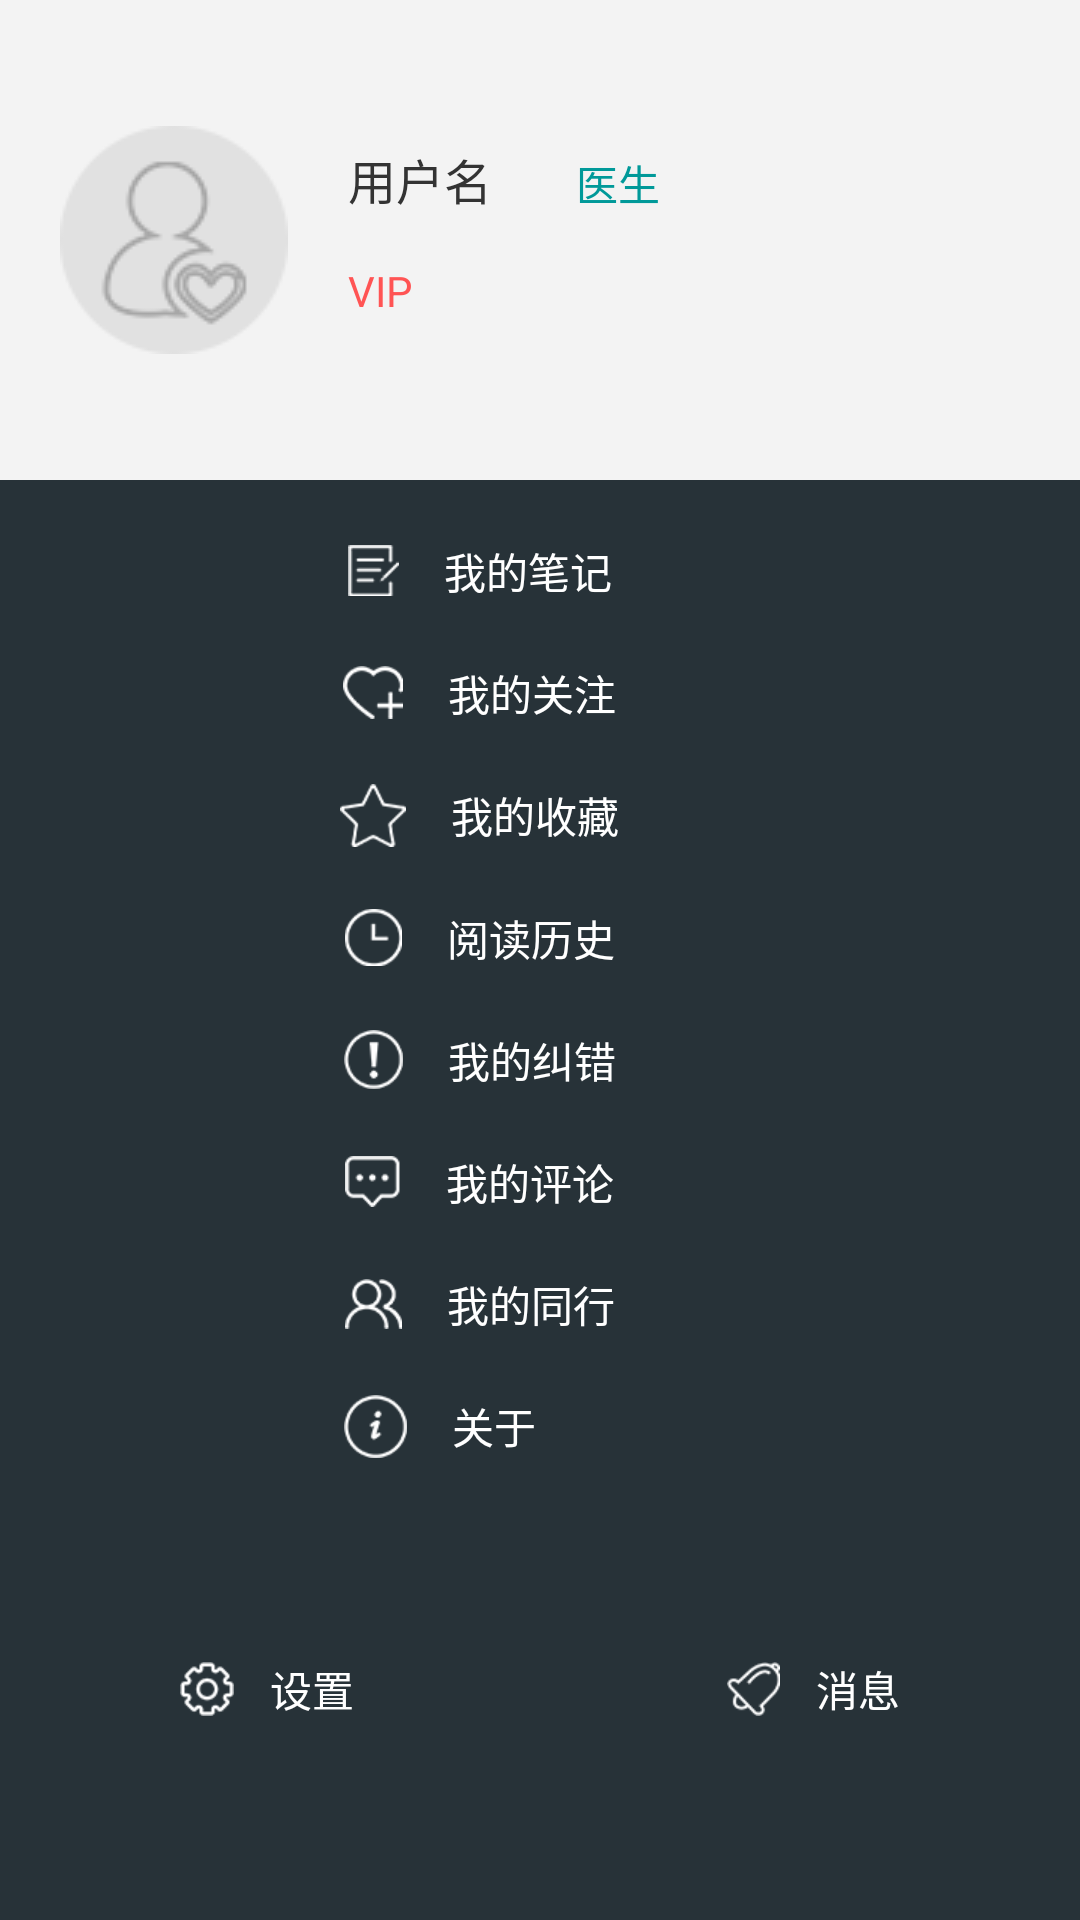

Icon click points for this 1080 × 1920 phone screenshot, format (x,y):
guanyu: (375,1426)
morentouxiang: (174,240)
wodebiji: (373,570)
wodeguanzhu: (373,692)
wodejiucuo: (373,1059)
wodepinglun: (372,1181)
wodeshoucang: (373,815)
wodetonghang: (373,1304)
yuedulishi: (373,937)
